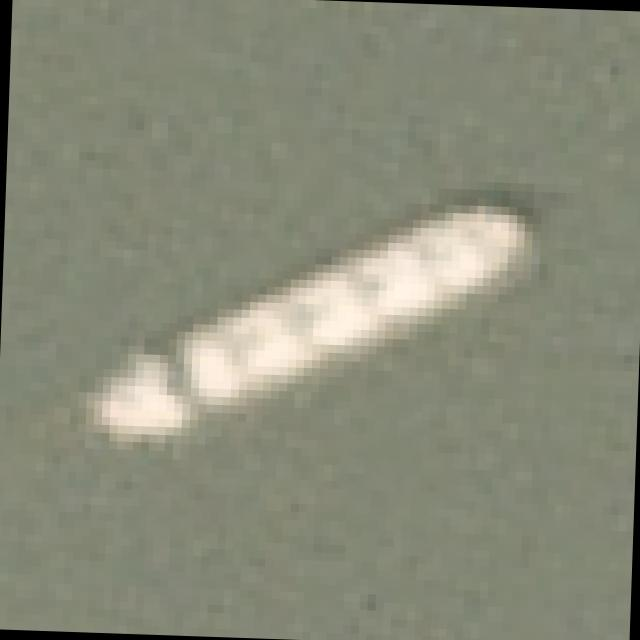ship: (38, 147, 586, 511)
